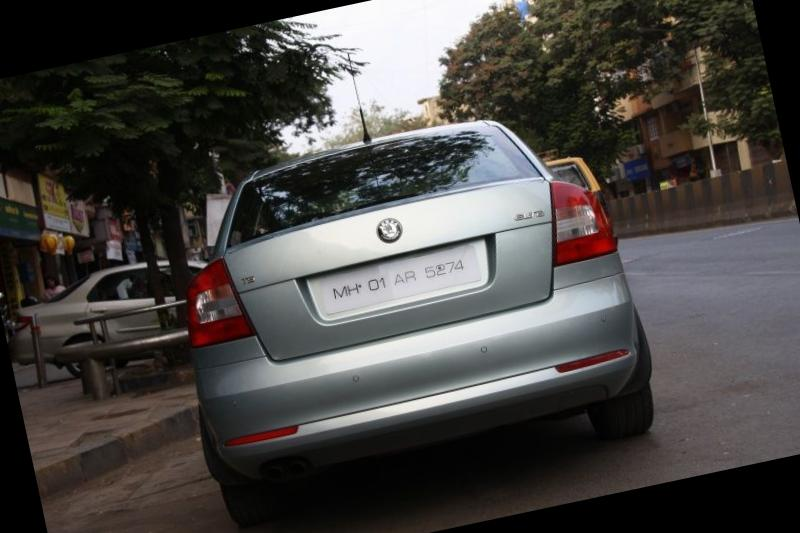plate: (284, 232, 506, 342)
